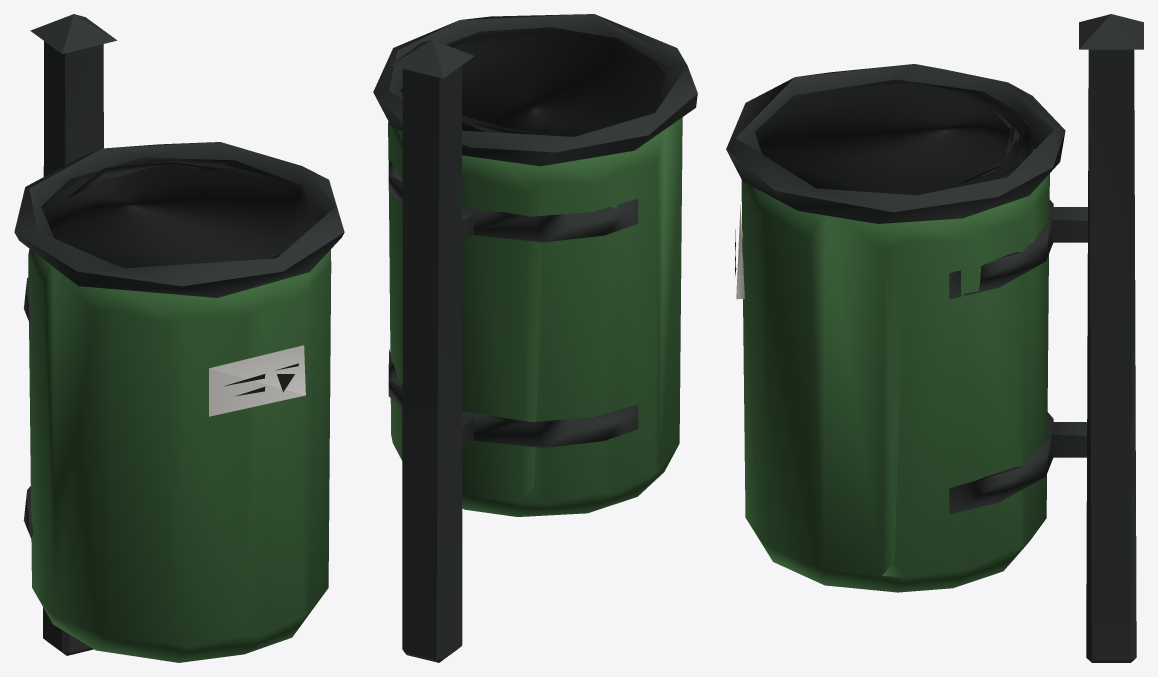
Rendered from litterBin.far.glb.
3 renders of one model, left to right at view 1: azimuth 30°, elevation 25°; view 2: azimuth 150°, elevation 25°; view 3: azimuth 270°, elevation 25°, orthographic. The views are drawn at different scales.
Visible parts, largest first — view 1: litterBin_far; view 2: litterBin_far; view 3: litterBin_far.
Boxes of the visible parts, bbox=[...] form: litterBin_far: bbox=[14, 14, 344, 662]; litterBin_far: bbox=[373, 14, 697, 662]; litterBin_far: bbox=[726, 14, 1143, 662].
Bounding box in the file's own units: 0.472 × 0.9838 × 0.5815.
